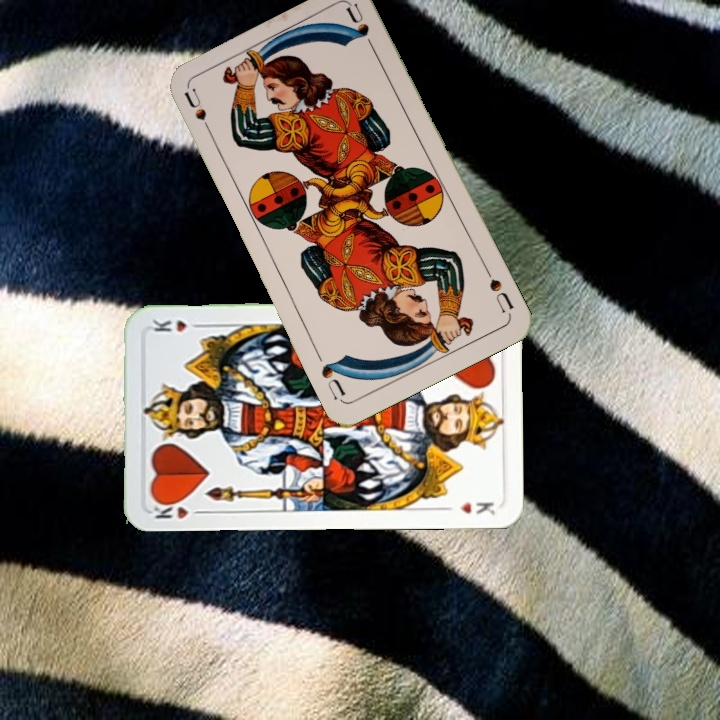HK: (149, 496, 191, 522)
SU: (180, 85, 218, 142), (480, 262, 516, 317)
